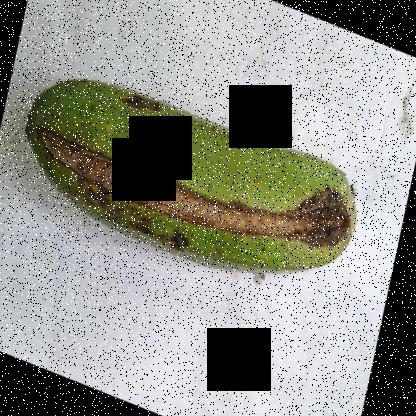rotten: (36, 67, 373, 309)
